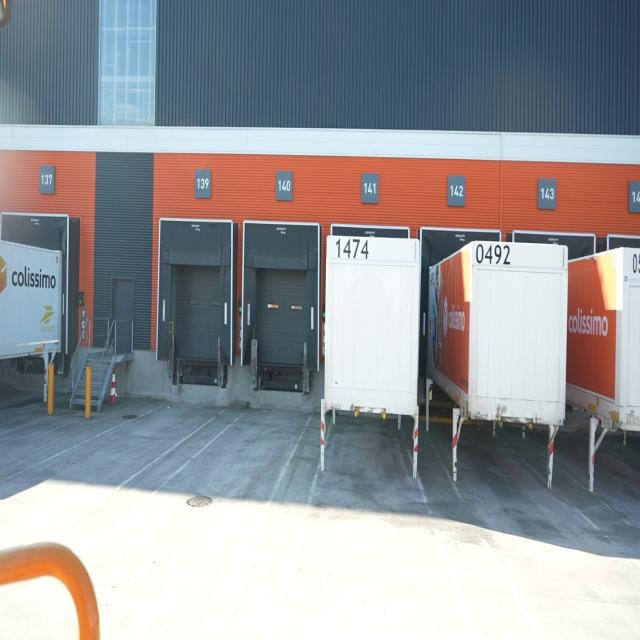Code: (329, 236, 376, 270), (475, 237, 513, 273)
